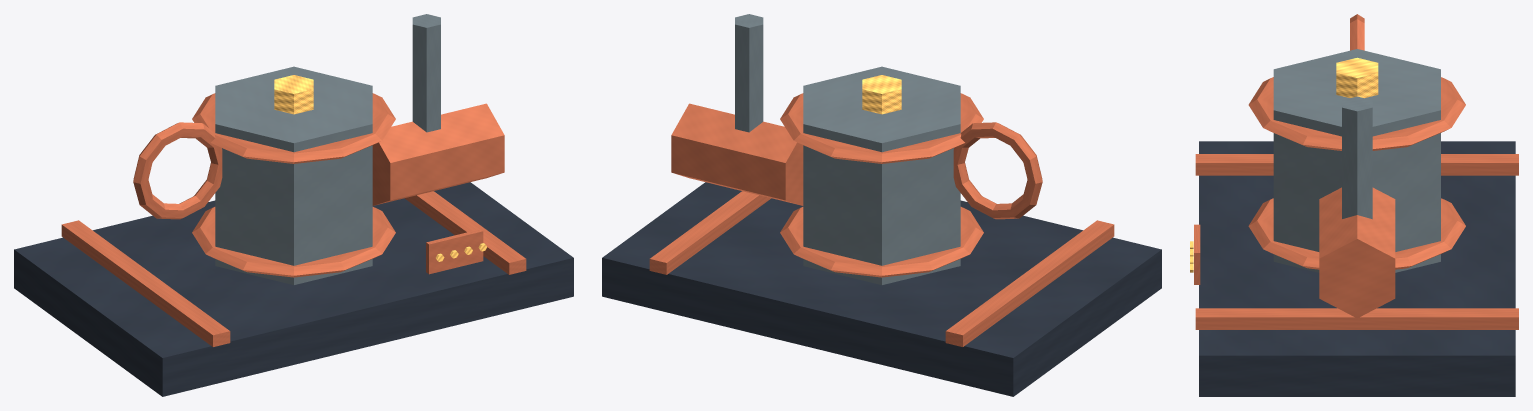
File: atlas100-s025-a02.glb
The picture shows the model from 3 angles, left to right: view 1: azimuth 30°, elevation 25°; view 2: azimuth 150°, elevation 25°; view 3: azimuth 270°, elevation 25°; orthographic projection. The views are drawn at different scales.
Visible parts, largest first — view 1: atlas100-s025-a02:part-000, atlas100-s025-a02:part-003, atlas100-s025-a02:part-007, atlas100-s025-a02:part-001, atlas100-s025-a02:part-004, atlas100-s025-a02:part-005, atlas100-s025-a02:part-009, atlas100-s025-a02:part-008, atlas100-s025-a02:part-002, atlas100-s025-a02:part-010, atlas100-s025-a02:part-006; view 2: atlas100-s025-a02:part-000, atlas100-s025-a02:part-003, atlas100-s025-a02:part-007, atlas100-s025-a02:part-001, atlas100-s025-a02:part-004, atlas100-s025-a02:part-005, atlas100-s025-a02:part-009, atlas100-s025-a02:part-008, atlas100-s025-a02:part-002, atlas100-s025-a02:part-006; view 3: atlas100-s025-a02:part-000, atlas100-s025-a02:part-003, atlas100-s025-a02:part-007, atlas100-s025-a02:part-002, atlas100-s025-a02:part-005, atlas100-s025-a02:part-008, atlas100-s025-a02:part-001, atlas100-s025-a02:part-004, atlas100-s025-a02:part-006, atlas100-s025-a02:part-009, atlas100-s025-a02:part-010.
Boxes of the visible parts, bbox=[...] form: atlas100-s025-a02:part-000: bbox=[14, 182, 573, 396]; atlas100-s025-a02:part-003: bbox=[215, 66, 372, 284]; atlas100-s025-a02:part-007: bbox=[372, 103, 504, 205]; atlas100-s025-a02:part-001: bbox=[61, 220, 230, 346]; atlas100-s025-a02:part-004: bbox=[192, 207, 395, 277]; atlas100-s025-a02:part-005: bbox=[192, 93, 395, 163]; atlas100-s025-a02:part-009: bbox=[133, 122, 222, 219]; atlas100-s025-a02:part-008: bbox=[412, 14, 440, 132]; atlas100-s025-a02:part-002: bbox=[405, 191, 526, 274]; atlas100-s025-a02:part-010: bbox=[426, 229, 483, 274]; atlas100-s025-a02:part-006: bbox=[274, 75, 313, 114]; atlas100-s025-a02:part-000: bbox=[602, 182, 1161, 396]; atlas100-s025-a02:part-003: bbox=[803, 66, 960, 284]; atlas100-s025-a02:part-007: bbox=[671, 103, 803, 205]; atlas100-s025-a02:part-001: bbox=[945, 220, 1114, 346]; atlas100-s025-a02:part-004: bbox=[780, 207, 983, 277]; atlas100-s025-a02:part-005: bbox=[780, 93, 983, 163]; atlas100-s025-a02:part-009: bbox=[953, 122, 1042, 219]; atlas100-s025-a02:part-008: bbox=[735, 14, 763, 132]; atlas100-s025-a02:part-002: bbox=[649, 191, 770, 274]; atlas100-s025-a02:part-006: bbox=[862, 75, 901, 114]; atlas100-s025-a02:part-000: bbox=[1199, 141, 1515, 396]; atlas100-s025-a02:part-003: bbox=[1273, 49, 1440, 272]; atlas100-s025-a02:part-007: bbox=[1319, 187, 1395, 318]; atlas100-s025-a02:part-002: bbox=[1195, 308, 1518, 329]; atlas100-s025-a02:part-005: bbox=[1248, 77, 1465, 150]; atlas100-s025-a02:part-008: bbox=[1342, 96, 1372, 219]; atlas100-s025-a02:part-001: bbox=[1195, 154, 1518, 175]; atlas100-s025-a02:part-004: bbox=[1248, 198, 1465, 269]; atlas100-s025-a02:part-006: bbox=[1336, 57, 1378, 98]; atlas100-s025-a02:part-009: bbox=[1350, 14, 1364, 50]; atlas100-s025-a02:part-010: bbox=[1194, 224, 1200, 284].
Size of the model in its own units: 2.88 by 1.6 by 1.87.
Materials: 4 (4 with a texture image).
